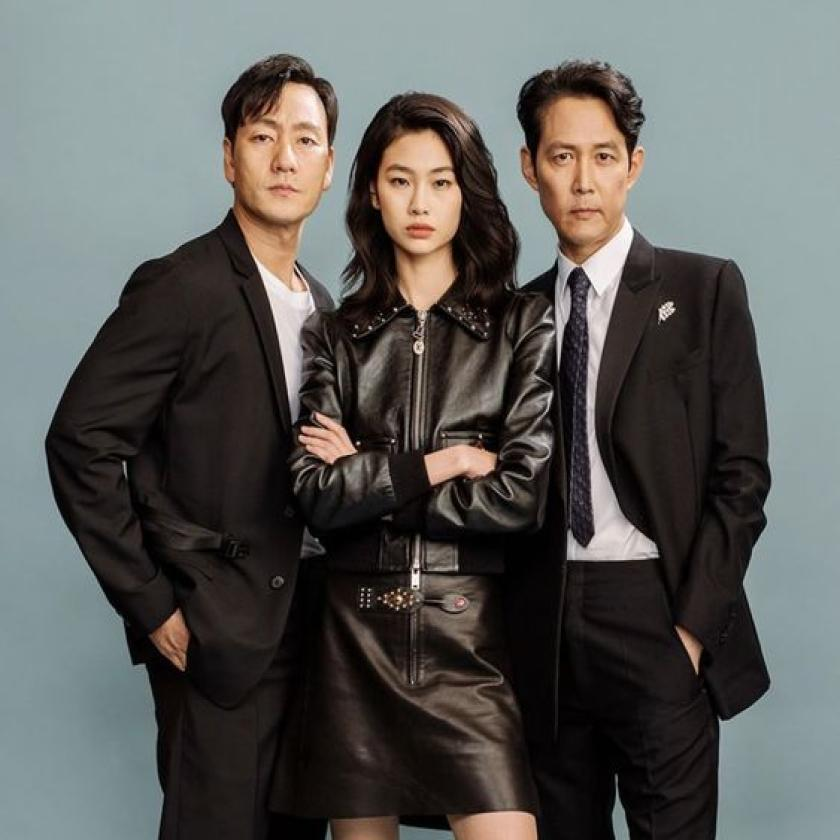Sin_casco: (519, 60, 644, 266), (219, 54, 343, 258), (365, 89, 482, 278)
